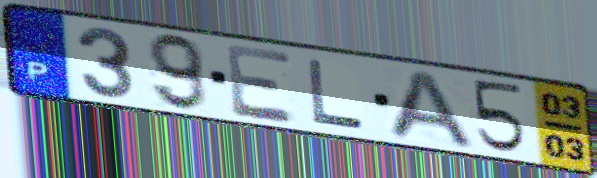3: (75, 25, 136, 100)
5: (469, 76, 526, 154)
9: (146, 31, 210, 115)
A: (383, 68, 479, 152)
E: (222, 41, 299, 126)
L: (303, 56, 367, 132)
